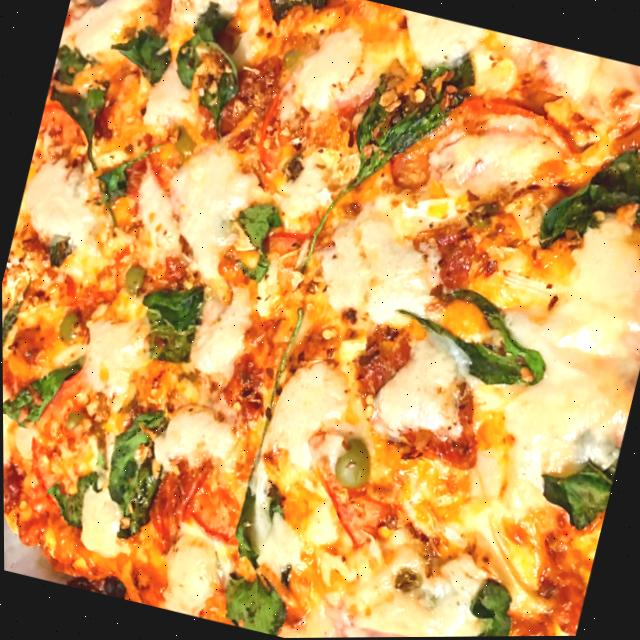basil: (299, 23, 476, 281), (220, 300, 320, 567), (380, 269, 578, 402), (525, 106, 640, 290), (157, 0, 259, 135), (2, 327, 91, 441), (210, 187, 297, 297), (526, 433, 619, 534), (123, 267, 209, 373), (32, 70, 121, 168), (98, 0, 186, 97), (206, 555, 296, 637), (75, 144, 145, 224), (455, 566, 525, 637), (49, 37, 99, 96), (253, 0, 331, 35), (256, 469, 292, 526), (2, 289, 29, 356), (40, 227, 73, 272)
green_olives: (330, 438, 378, 490), (118, 260, 151, 297), (55, 306, 86, 345), (171, 123, 202, 158), (64, 409, 84, 431)
pizza: (0, 0, 640, 640)
